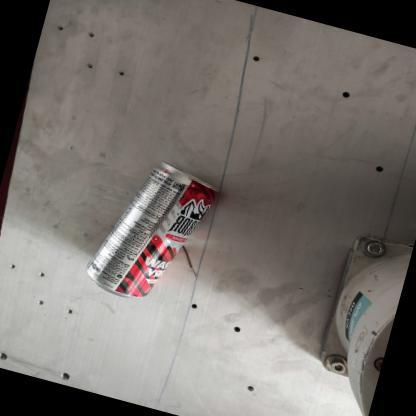debris: (84, 152, 221, 309)
